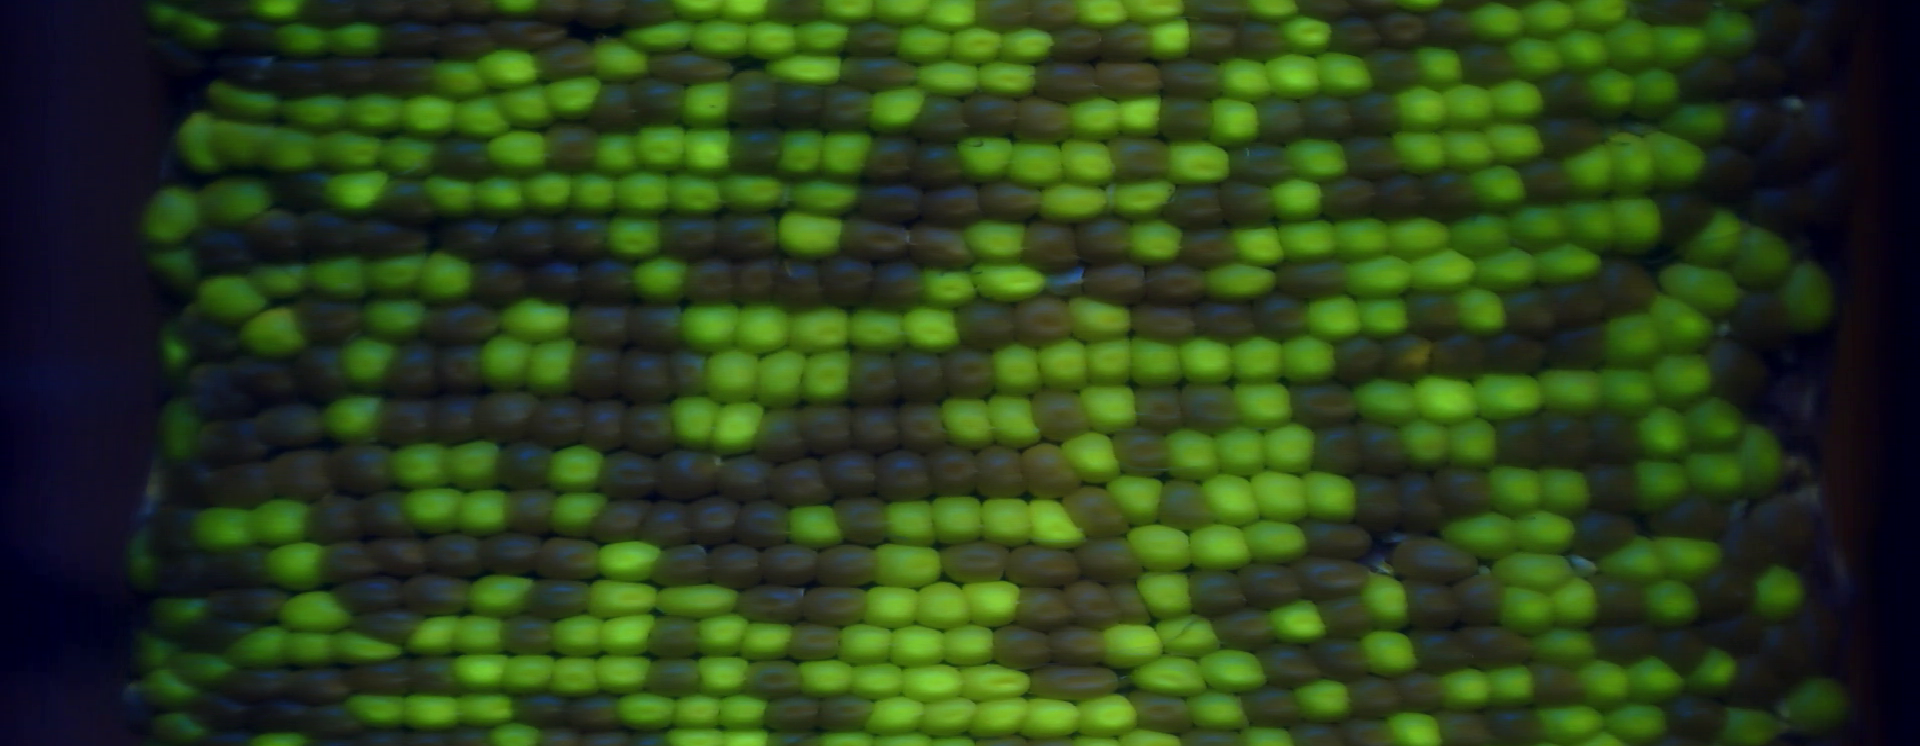fluorescent: (1657, 256, 1742, 316), (1778, 255, 1837, 336), (1774, 677, 1851, 736), (1642, 127, 1709, 194), (1436, 511, 1517, 566), (238, 306, 320, 360), (1622, 458, 1696, 518), (771, 206, 847, 263), (320, 392, 397, 447), (1123, 521, 1200, 575), (142, 183, 200, 254), (304, 127, 391, 174), (492, 293, 577, 341), (1651, 347, 1719, 405), (1491, 581, 1560, 639), (1032, 179, 1116, 227), (1602, 127, 1660, 195), (1473, 369, 1544, 424), (1411, 374, 1487, 425), (863, 77, 924, 141), (1652, 292, 1717, 352), (672, 303, 749, 353), (872, 541, 945, 594), (1509, 503, 1578, 559), (191, 176, 276, 222), (1536, 363, 1607, 416), (1659, 532, 1730, 586), (707, 398, 771, 457), (1678, 397, 1742, 456), (481, 125, 557, 175), (1177, 522, 1254, 571), (1349, 379, 1424, 429), (1600, 358, 1662, 419), (1202, 258, 1284, 304), (667, 390, 722, 457), (1205, 424, 1273, 478), (1264, 597, 1332, 650), (1283, 135, 1357, 185), (354, 296, 437, 341), (1636, 405, 1695, 468), (1740, 423, 1785, 503), (372, 122, 437, 179), (1610, 196, 1665, 262), (650, 581, 746, 619), (274, 588, 364, 628), (983, 393, 1044, 452), (263, 543, 337, 592), (1660, 99, 1738, 146), (1681, 209, 1746, 265), (1101, 173, 1176, 220), (972, 260, 1051, 305), (206, 76, 284, 121), (305, 254, 373, 305), (1158, 428, 1221, 484), (1490, 551, 1575, 593), (602, 217, 676, 265), (1695, 10, 1764, 60), (595, 608, 660, 661), (1147, 614, 1224, 659), (323, 168, 394, 217), (590, 649, 658, 701), (1316, 50, 1378, 107), (1104, 470, 1167, 526), (1064, 93, 1127, 148), (583, 575, 659, 620), (212, 115, 276, 169), (845, 301, 909, 355), (1196, 646, 1266, 695), (1187, 688, 1256, 737), (787, 304, 852, 356), (759, 54, 844, 94), (1123, 654, 1207, 695), (527, 334, 578, 401), (1740, 224, 1791, 290), (1468, 247, 1543, 293), (748, 349, 807, 407), (1211, 55, 1278, 105), (729, 301, 796, 352), (1026, 497, 1086, 554), (481, 333, 536, 394), (1199, 94, 1261, 148), (192, 269, 262, 317), (384, 441, 454, 489), (403, 489, 473, 537), (962, 216, 1029, 266), (1163, 136, 1229, 186), (1131, 570, 1198, 620), (1273, 218, 1340, 268), (879, 492, 937, 550), (1009, 135, 1067, 192), (938, 390, 996, 447), (916, 577, 973, 635), (1302, 470, 1360, 527), (1560, 194, 1615, 254), (704, 350, 765, 404), (192, 508, 260, 557), (1648, 20, 1716, 69), (1247, 468, 1309, 521), (1280, 333, 1342, 386), (1019, 695, 1087, 742), (419, 246, 474, 305), (1176, 334, 1242, 383), (1228, 379, 1294, 428), (1196, 472, 1262, 521), (860, 586, 926, 635), (457, 481, 516, 537), (833, 622, 906, 666), (1408, 250, 1482, 294), (774, 126, 828, 186), (954, 134, 1014, 187), (1477, 118, 1551, 160), (444, 439, 508, 489), (245, 503, 317, 548), (446, 650, 518, 695), (975, 489, 1029, 548), (497, 78, 556, 132), (1692, 450, 1751, 503), (277, 625, 343, 673), (1464, 1, 1531, 49), (1596, 538, 1662, 586), (1056, 134, 1118, 184), (550, 447, 612, 497), (1360, 571, 1411, 633), (545, 614, 612, 660), (178, 109, 227, 173), (1385, 124, 1449, 173), (1385, 212, 1449, 261), (133, 668, 211, 708), (158, 391, 203, 459), (1124, 338, 1182, 392), (1755, 566, 1809, 624), (364, 252, 429, 300), (1362, 628, 1427, 676), (636, 120, 694, 173), (1069, 296, 1135, 343), (394, 89, 460, 136), (960, 661, 1030, 706), (1631, 660, 1692, 710), (591, 540, 667, 581), (1449, 209, 1511, 258), (1540, 463, 1596, 518), (262, 118, 315, 175), (680, 125, 738, 176), (138, 595, 216, 635), (721, 169, 786, 216), (1302, 299, 1367, 345), (678, 77, 738, 127), (1260, 423, 1320, 473), (961, 578, 1021, 628), (549, 489, 609, 539), (915, 58, 987, 99), (969, 693, 1035, 739), (1291, 679, 1360, 722), (931, 491, 984, 546), (1080, 379, 1135, 432), (1236, 523, 1309, 563), (906, 303, 962, 355), (344, 692, 416, 733), (478, 47, 544, 91), (122, 532, 167, 598), (337, 337, 391, 391), (1687, 649, 1739, 706), (1515, 201, 1575, 249), (397, 692, 465, 734), (1224, 223, 1286, 269), (144, 245, 206, 292), (612, 691, 673, 737), (1641, 579, 1702, 626), (991, 341, 1043, 394), (1396, 416, 1450, 469), (887, 621, 949, 666), (693, 654, 756, 699), (1409, 44, 1472, 89), (470, 171, 527, 222), (1231, 336, 1287, 386), (1581, 67, 1637, 118), (860, 695, 929, 735), (629, 254, 687, 303), (801, 345, 850, 403), (1446, 416, 1495, 474), (540, 73, 600, 120), (784, 499, 844, 545), (1438, 125, 1498, 171), (1548, 579, 1600, 632), (816, 127, 869, 179), (469, 575, 538, 615), (1063, 436, 1120, 484), (1487, 467, 1544, 514), (787, 179, 864, 214), (612, 171, 671, 218), (152, 323, 203, 376), (331, 628, 407, 664), (593, 34, 649, 82), (1560, 146, 1616, 194), (900, 666, 969, 706), (222, 626, 302, 659), (454, 690, 520, 730), (664, 171, 722, 217), (500, 649, 558, 695), (1528, 628, 1600, 665), (999, 22, 1059, 66), (425, 171, 476, 223), (1101, 620, 1161, 664), (1469, 165, 1529, 209), (454, 92, 508, 141), (1335, 216, 1389, 265), (1269, 176, 1324, 224), (893, 24, 954, 67), (452, 616, 513, 659), (980, 60, 1044, 100), (1078, 690, 1135, 735), (1607, 703, 1675, 741), (740, 20, 802, 61), (845, 664, 907, 706), (1127, 220, 1185, 265), (400, 619, 467, 658), (1605, 21, 1664, 65), (1266, 56, 1325, 100), (569, 168, 618, 220), (277, 96, 349, 131), (148, 710, 220, 746), (1626, 71, 1681, 118), (1342, 260, 1412, 296), (542, 654, 604, 696), (1439, 83, 1496, 127), (1037, 339, 1089, 388), (1488, 78, 1547, 121), (1360, 289, 1412, 338), (1458, 293, 1512, 339), (343, 91, 403, 132), (1558, 32, 1614, 76), (1393, 85, 1450, 129), (944, 24, 1005, 65), (431, 56, 489, 99), (740, 619, 797, 661), (696, 616, 753, 659), (591, 127, 642, 176), (924, 265, 977, 311), (1117, 92, 1163, 145), (1537, 709, 1608, 744), (1439, 665, 1494, 709), (920, 699, 981, 739), (178, 13, 230, 59), (175, 648, 240, 685), (940, 624, 996, 666), (791, 16, 855, 53), (1507, 36, 1565, 76), (622, 22, 698, 53), (1534, 243, 1596, 281), (523, 165, 571, 213), (1487, 666, 1538, 710), (1280, 16, 1333, 58), (1719, 706, 1774, 746), (1580, 661, 1625, 710), (329, 23, 389, 60), (1147, 13, 1191, 62), (800, 660, 855, 699), (696, 22, 752, 60), (137, 2, 193, 39), (276, 24, 331, 61), (125, 631, 180, 668), (669, 695, 726, 729), (252, 260, 302, 299), (1524, 1, 1578, 37), (869, 1, 933, 31), (722, 695, 771, 733), (926, 1, 977, 34), (1387, 713, 1439, 746), (1573, 1, 1633, 29), (491, 717, 541, 746), (1080, 1, 1128, 31), (242, 1, 306, 23), (827, 1, 876, 29), (1124, 1, 1187, 22), (1604, 310, 1629, 360), (711, 726, 771, 746), (1118, 730, 1191, 746), (720, 1, 771, 23), (1253, 1, 1302, 22), (673, 1, 722, 20), (672, 729, 716, 746), (496, 1, 535, 18)
nonfluorescent: (1693, 337, 1779, 414), (1736, 495, 1818, 573), (1742, 183, 1827, 245), (1382, 534, 1482, 586), (1649, 494, 1736, 548), (1393, 575, 1472, 633), (1518, 655, 1594, 713), (951, 295, 1022, 356), (1291, 377, 1364, 435), (1653, 184, 1720, 246), (1009, 92, 1078, 153), (1589, 250, 1656, 312), (1401, 628, 1485, 676), (474, 526, 549, 579), (1400, 285, 1471, 342), (1002, 538, 1085, 586), (1490, 414, 1554, 477), (1294, 87, 1362, 146), (655, 445, 729, 499), (1545, 314, 1611, 372), (1249, 284, 1316, 342), (471, 387, 539, 445), (250, 399, 324, 451), (1287, 552, 1371, 598), (819, 251, 882, 312), (191, 361, 257, 419), (1351, 469, 1404, 539), (1580, 401, 1640, 463), (1567, 501, 1632, 559), (331, 442, 403, 494), (1474, 330, 1551, 377), (1542, 405, 1599, 469), (724, 66, 779, 132), (624, 304, 692, 358), (1730, 292, 1798, 345), (1462, 622, 1534, 673), (842, 344, 901, 405), (774, 257, 838, 314), (629, 76, 694, 131), (893, 342, 948, 407), (1011, 292, 1082, 342), (1021, 663, 1122, 698), (193, 420, 274, 464), (539, 118, 598, 178), (1153, 91, 1216, 147), (1078, 261, 1157, 305), (424, 341, 489, 394), (358, 216, 441, 257), (375, 393, 442, 445), (599, 441, 658, 500), (936, 538, 1008, 586), (1381, 332, 1442, 388), (1431, 462, 1493, 518), (427, 391, 490, 446), (800, 579, 873, 626), (266, 441, 331, 494), (1060, 485, 1127, 537), (1278, 258, 1349, 306), (1007, 579, 1074, 630), (874, 445, 936, 500), (1389, 472, 1442, 534), (661, 211, 727, 261), (989, 624, 1056, 674), (831, 53, 916, 92), (1223, 176, 1280, 235), (971, 443, 1031, 499), (1796, 593, 1839, 670), (211, 458, 272, 512), (1749, 132, 1816, 181), (1578, 456, 1640, 510), (838, 217, 912, 261), (1684, 571, 1758, 615), (722, 126, 791, 174), (1109, 430, 1173, 481), (539, 528, 602, 579), (1187, 562, 1250, 614), (244, 216, 316, 261), (525, 396, 590, 446), (773, 458, 838, 508), (1452, 566, 1502, 631), (818, 82, 876, 138), (869, 258, 928, 314), (1357, 418, 1412, 477), (917, 93, 978, 146), (1127, 296, 1198, 342), (961, 97, 1029, 145), (419, 304, 498, 344), (1191, 293, 1259, 341), (207, 586, 291, 624), (436, 220, 511, 263), (1245, 93, 1309, 143), (1720, 521, 1771, 584), (1124, 687, 1196, 731), (1673, 54, 1738, 103), (1554, 283, 1619, 332), (769, 77, 825, 134), (1063, 572, 1120, 627), (1025, 216, 1084, 269), (909, 224, 978, 269), (1799, 96, 1851, 156), (700, 541, 767, 589), (1298, 516, 1371, 559), (1584, 576, 1646, 627), (1341, 126, 1403, 176), (1104, 136, 1172, 183), (567, 305, 634, 352), (433, 137, 504, 181), (1660, 693, 1731, 737), (718, 209, 781, 258), (732, 582, 812, 621), (376, 17, 444, 62), (1755, 620, 1811, 675), (384, 175, 442, 229), (624, 399, 678, 457), (1024, 439, 1078, 496), (424, 528, 489, 576), (1693, 146, 1758, 194), (1156, 477, 1215, 529), (1093, 56, 1163, 100), (857, 179, 923, 225), (1076, 530, 1142, 577), (348, 653, 418, 697), (529, 40, 605, 81), (1652, 624, 1714, 673), (972, 179, 1049, 218), (736, 494, 795, 545), (495, 612, 563, 657), (1209, 606, 1277, 650), (220, 51, 288, 96), (751, 407, 804, 462), (1309, 424, 1360, 481), (929, 441, 981, 499), (838, 491, 889, 549), (1224, 142, 1289, 187), (1070, 219, 1135, 265), (1783, 26, 1832, 86), (1030, 56, 1104, 96), (1309, 635, 1370, 682), (1048, 620, 1109, 668), (800, 403, 853, 457), (353, 608, 429, 646), (825, 451, 884, 500), (267, 168, 336, 209), (643, 49, 736, 80), (191, 227, 252, 273), (1316, 588, 1378, 635), (556, 211, 609, 265), (593, 491, 645, 545), (1750, 1, 1802, 55), (1727, 653, 1780, 706), (644, 615, 710, 658), (1180, 381, 1237, 431), (324, 53, 383, 100), (580, 394, 628, 453), (348, 496, 411, 540), (302, 212, 362, 258), (1722, 100, 1782, 147), (1146, 263, 1211, 306), (756, 538, 817, 583), (649, 540, 711, 584), (1542, 73, 1599, 121), (917, 183, 984, 223), (469, 262, 536, 303), (1031, 392, 1091, 437), (718, 454, 778, 500), (217, 665, 299, 698), (850, 403, 902, 454), (582, 255, 636, 305), (1536, 118, 1607, 156), (380, 58, 437, 104), (502, 216, 560, 262), (178, 615, 250, 652), (433, 21, 497, 62), (1499, 289, 1562, 331), (201, 691, 261, 735), (299, 348, 351, 398), (589, 81, 643, 130), (1427, 325, 1480, 374), (640, 499, 696, 546), (1104, 573, 1152, 628), (527, 260, 588, 303), (522, 575, 587, 615), (945, 341, 991, 398), (643, 653, 700, 698), (909, 143, 967, 187), (296, 296, 362, 336), (334, 575, 400, 614), (680, 258, 740, 301), (1367, 48, 1427, 91), (400, 577, 473, 612), (617, 352, 672, 398), (758, 695, 825, 733), (372, 533, 433, 575), (1728, 51, 1787, 94), (318, 539, 384, 577), (1233, 681, 1299, 719), (1184, 20, 1244, 61), (273, 56, 333, 98), (862, 137, 917, 183), (1182, 225, 1245, 265), (241, 356, 298, 401), (789, 624, 850, 664), (742, 655, 803, 696), (1485, 706, 1547, 746), (293, 659, 350, 702), (1134, 379, 1185, 426), (197, 541, 245, 593), (409, 650, 460, 698), (1429, 168, 1476, 220), (1326, 336, 1385, 377), (509, 693, 580, 728), (492, 16, 566, 49), (1344, 676, 1400, 720), (147, 550, 207, 590), (302, 699, 366, 737), (1386, 176, 1436, 224), (568, 345, 613, 398), (1164, 59, 1229, 96), (1168, 186, 1227, 227), (1049, 24, 1104, 67), (729, 258, 789, 298), (1251, 644, 1318, 680), (1234, 16, 1291, 58), (497, 441, 553, 483), (171, 461, 222, 507), (1633, 1, 1716, 29), (1438, 707, 1496, 746), (295, 501, 358, 538), (613, 1, 691, 31), (817, 541, 874, 581), (689, 497, 737, 544), (217, 18, 283, 51), (179, 321, 242, 355), (1523, 158, 1570, 205), (899, 402, 943, 451), (823, 695, 878, 734), (1453, 45, 1512, 82), (849, 20, 905, 58), (149, 38, 203, 77), (1589, 624, 1653, 657), (287, 1, 361, 29), (1353, 91, 1404, 131), (506, 488, 553, 530), (393, 1, 459, 32), (250, 695, 305, 731), (1327, 180, 1382, 217), (975, 1, 1033, 36), (572, 690, 623, 729), (1331, 18, 1382, 58), (1100, 22, 1152, 60), (392, 344, 431, 394), (1376, 11, 1431, 47), (1393, 668, 1439, 710), (1427, 9, 1478, 45), (667, 349, 708, 394), (231, 540, 268, 589), (354, 1, 409, 33), (149, 511, 197, 548), (1284, 719, 1349, 746), (576, 1, 628, 32), (1712, 617, 1768, 646), (191, 1, 258, 24), (1340, 719, 1393, 746), (767, 1, 824, 24), (1286, 1, 1349, 20), (1036, 1, 1081, 27), (1194, 1, 1247, 21), (535, 1, 583, 22), (460, 1, 496, 23)
